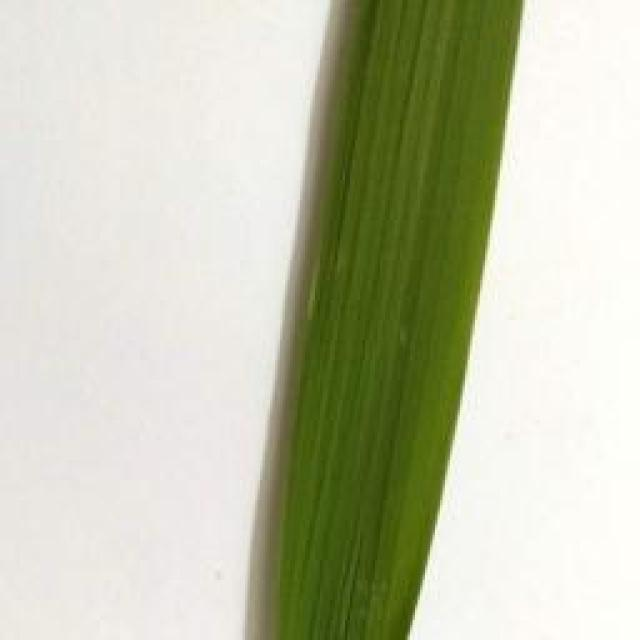Healthy-Plant: (271, 0, 524, 640)
